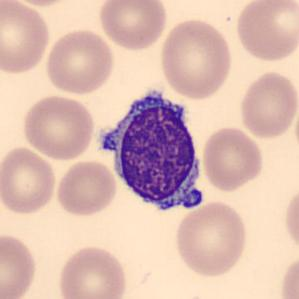Lymphocyte: (94, 83, 211, 220)
RBC: (157, 17, 235, 101), (172, 198, 250, 278), (20, 93, 96, 162), (43, 27, 116, 96), (199, 124, 265, 193), (237, 69, 298, 140), (0, 144, 59, 217), (232, 0, 298, 64), (56, 243, 130, 299), (53, 158, 119, 219), (0, 0, 52, 75), (96, 0, 169, 52), (0, 230, 39, 299), (282, 183, 299, 256), (278, 253, 298, 298), (3, 0, 76, 7)
